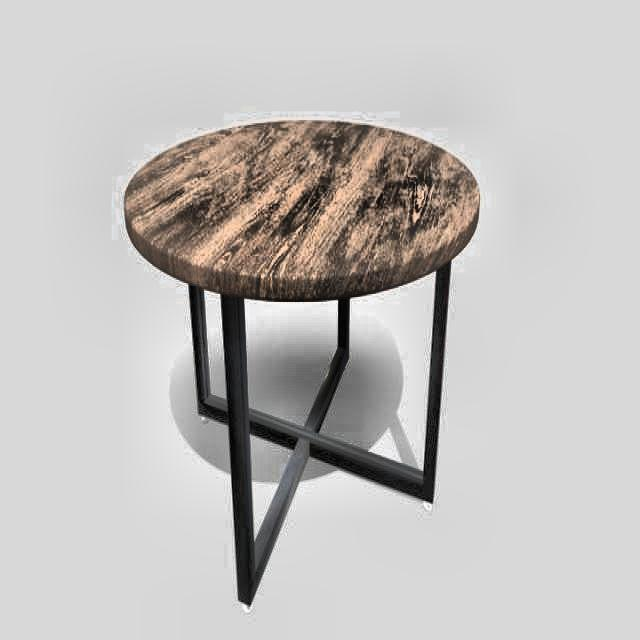mesa: (124, 119, 480, 604)
